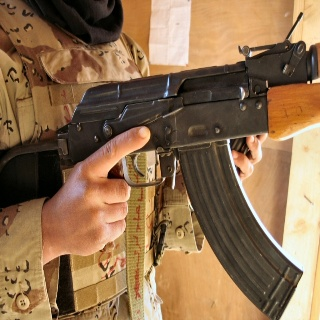rifle: (1, 12, 320, 320)
